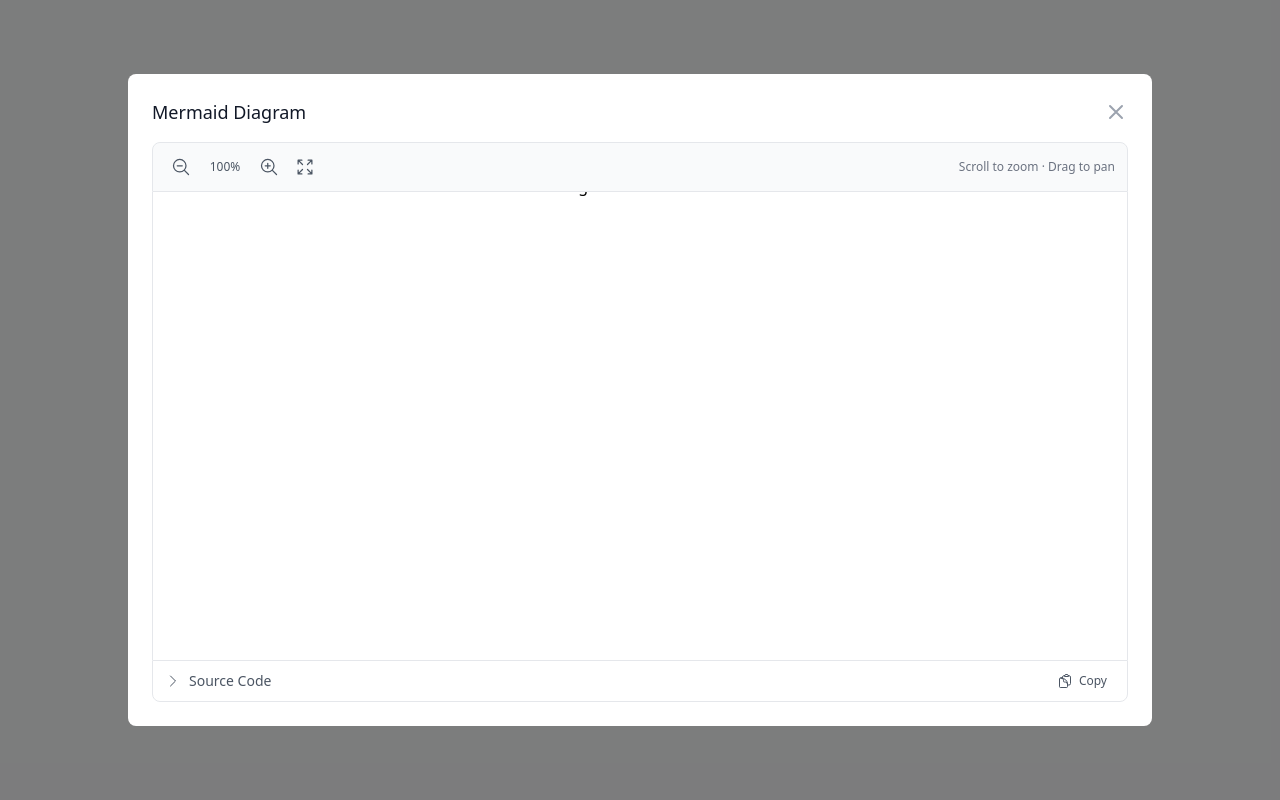
MermaidDiagramModal › updates zoom percentage when zooming in
The width and height of the screenshot is (1280, 800).
What coordinates should you click on to do the following:
click the button named "Zoom in"
I would click on:
 (269, 167)
Its box is [253,151,285,183].
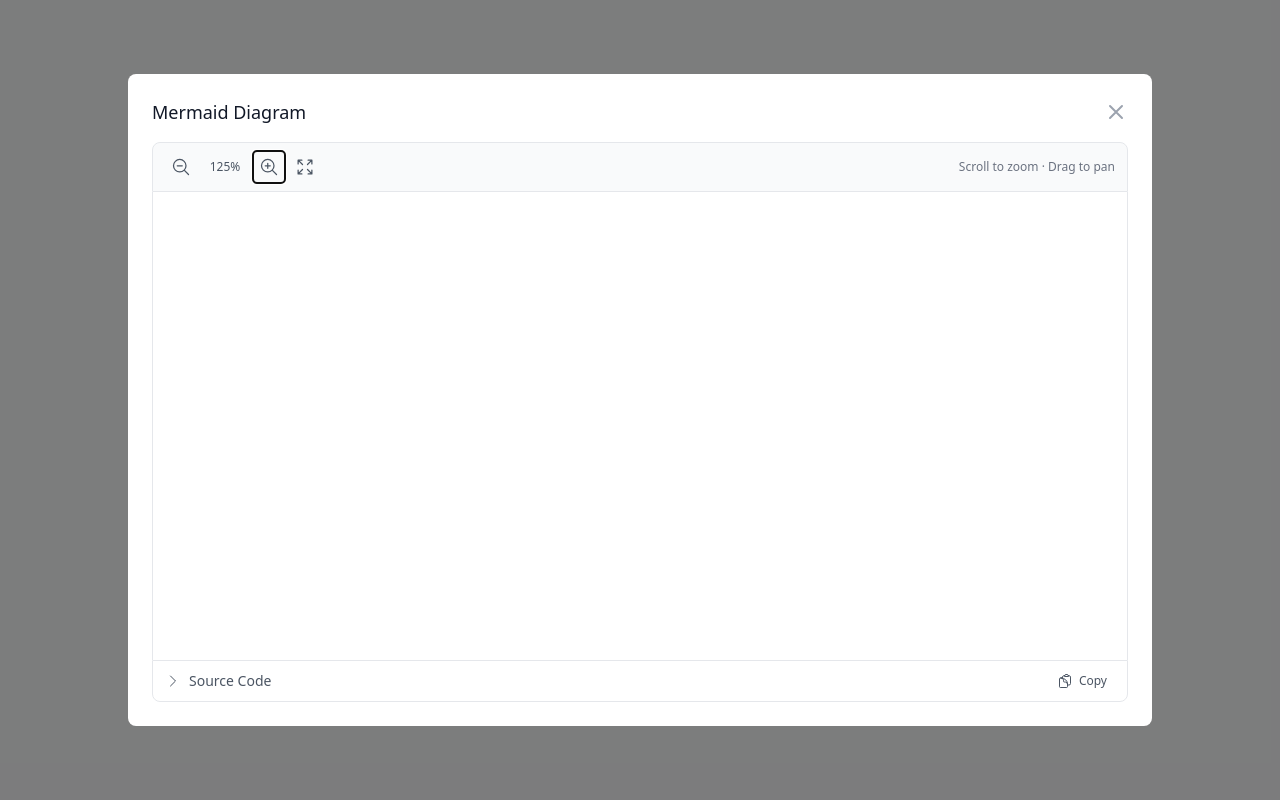
Check: the text "125%" is shown, box [210,158,240,175]
